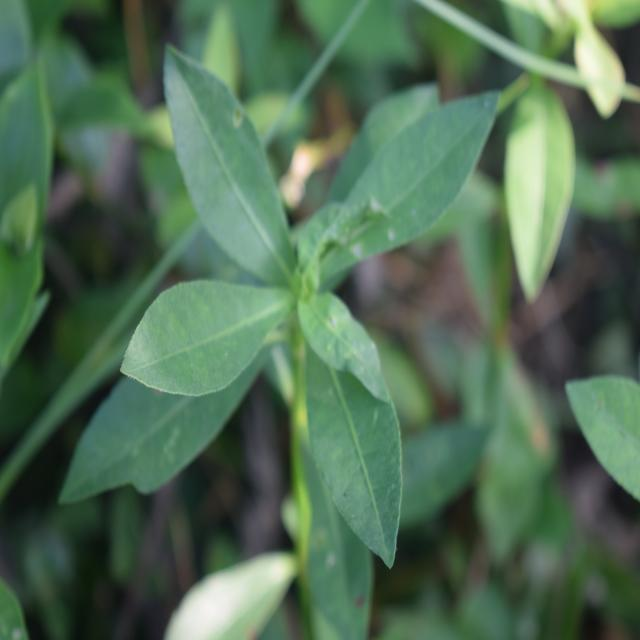Alligatorweed: (114, 17, 457, 510)
